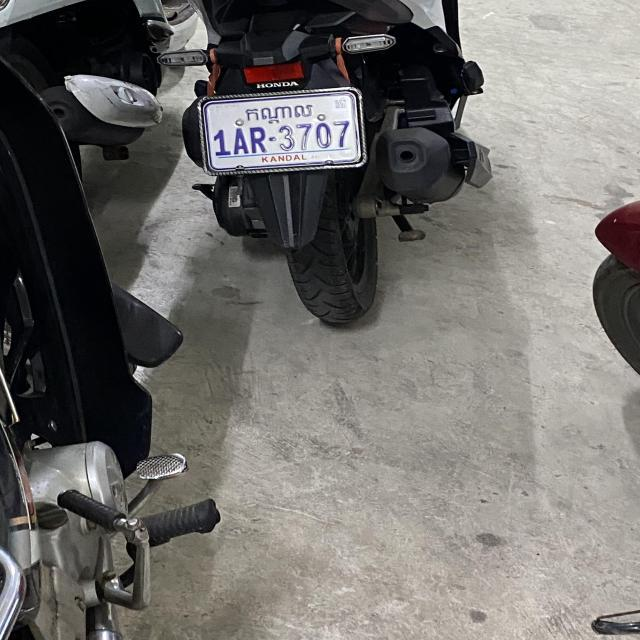Kandal: (245, 103, 318, 126)
